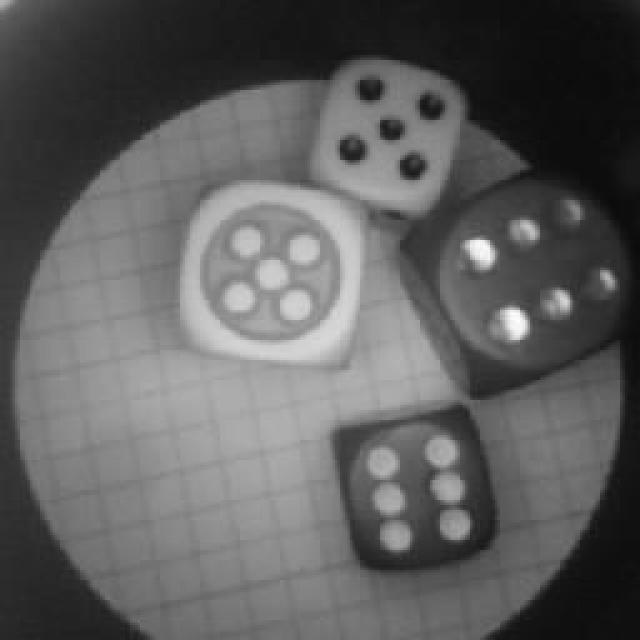dice_5: (170, 172, 368, 372), (308, 52, 468, 218)
dice_6: (405, 172, 640, 398), (330, 398, 508, 582)
